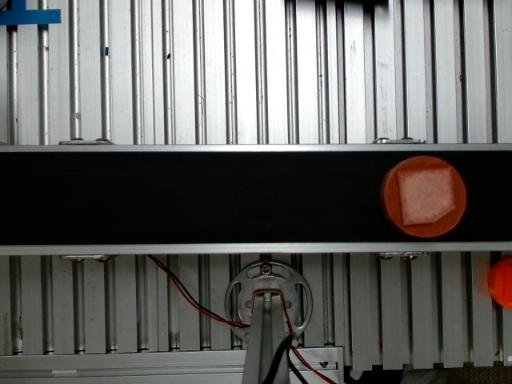Brown_Waper: (381, 156, 466, 238)
Not_Square: (396, 168, 456, 227)
